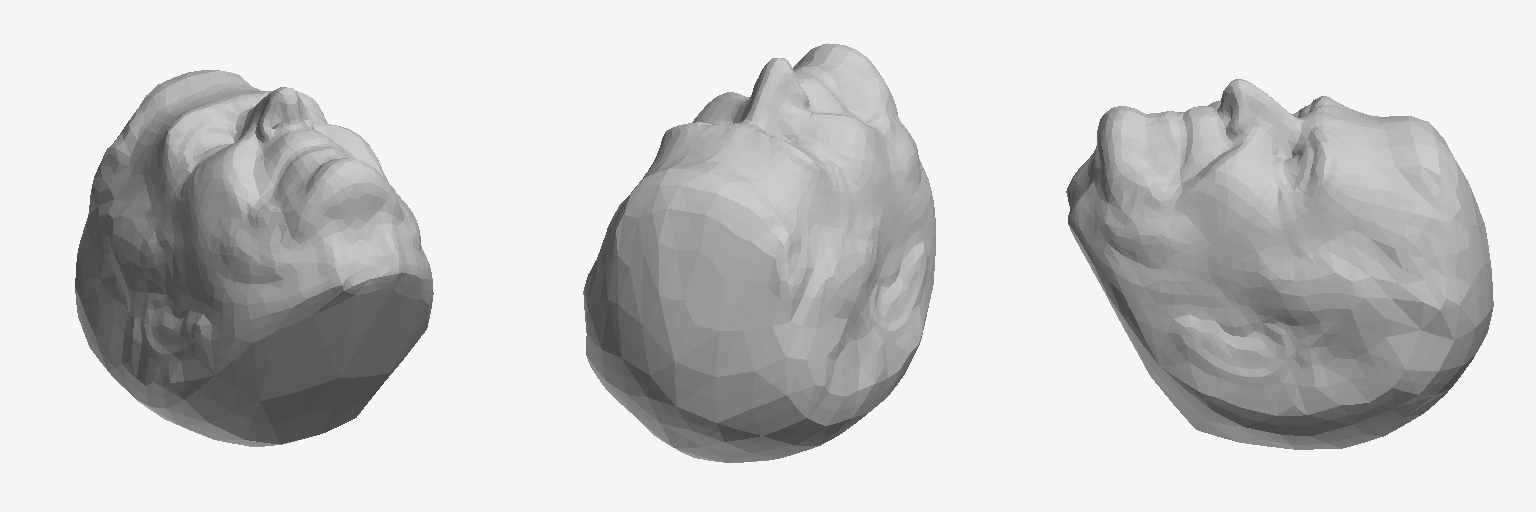
Rendered from Trump.obj.
3 renders of one model, left to right at view 1: azimuth 30°, elevation 25°; view 2: azimuth 150°, elevation 25°; view 3: azimuth 270°, elevation 25°, orthographic.
Visible parts, largest first — view 1: Trump; view 2: Trump; view 3: Trump.
Part boxes in pixels (x1,y1,x2,y2): Trump: (75,70,433,446); Trump: (583,43,935,462); Trump: (1066,79,1493,449).
Bounding box in the file's own units: 6.07 × 8.55 × 9.16.